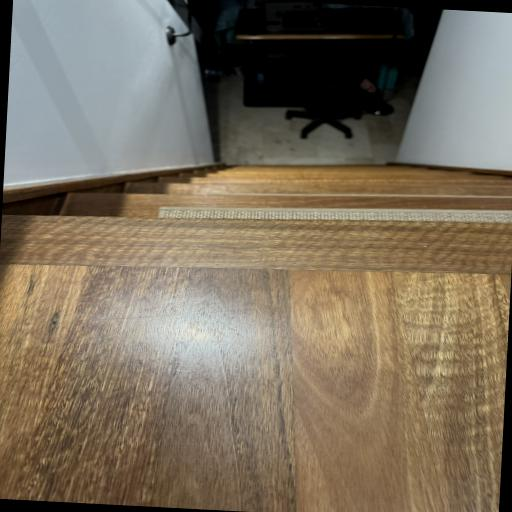stairs: (59, 166, 512, 222)
